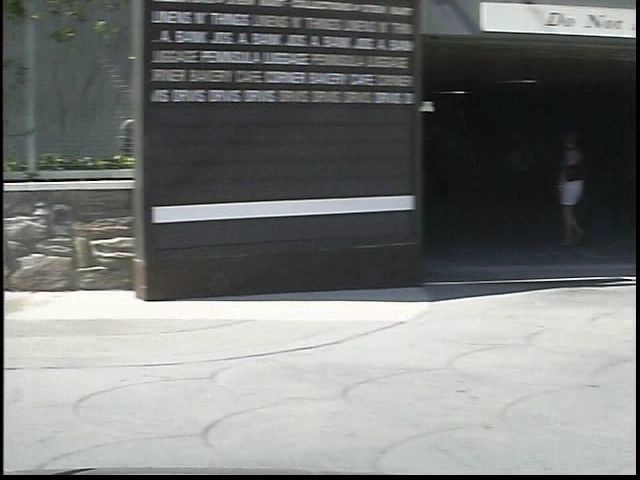person: (526, 126, 582, 253)
